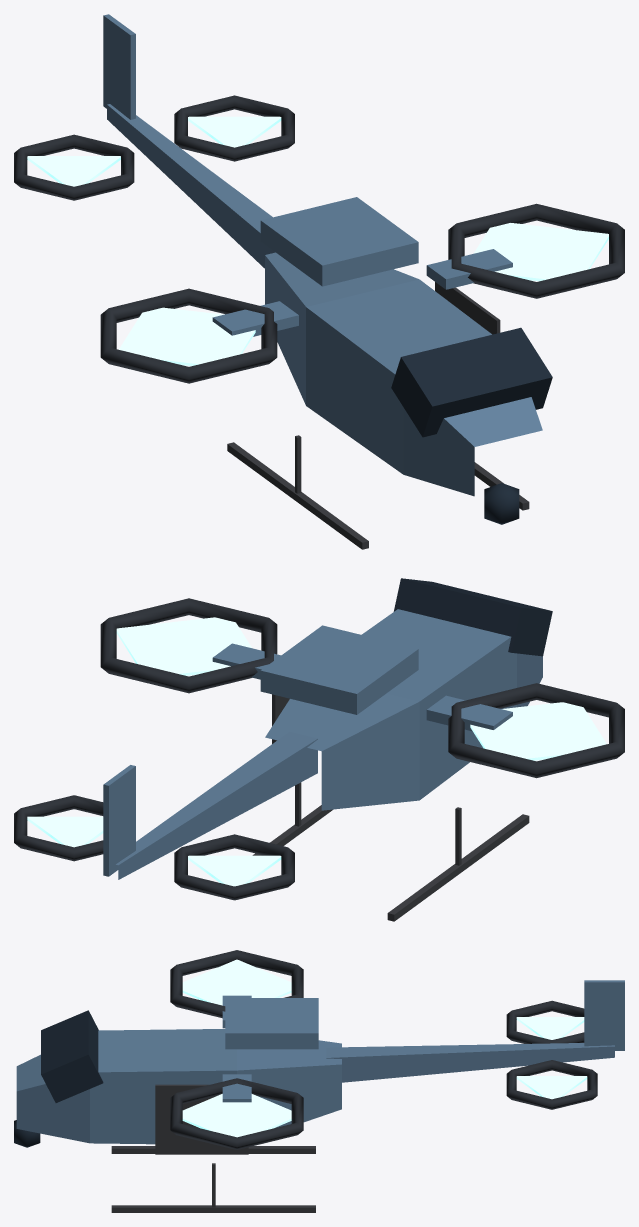
File: veh_air_heli_transport_a10_lod2.glb
The picture shows the model from 3 angles, top to bottom: view 1: azimuth 30°, elevation 25°; view 2: azimuth 150°, elevation 25°; view 3: azimuth 270°, elevation 25°; orthographic projection. The views are drawn at different scales.
Parts seen in each view (by area): view 1: body, rotor_r, rotor_l, rotor_aft_l, rotor_aft_r, door; view 2: body, rotor_l, rotor_r, rotor_aft_r, rotor_aft_l; view 3: body, rotor_l, rotor_r, rotor_aft_l, rotor_aft_r, door.
Boxes of the visible parts, x1,y1,x2,y2 form: body: [103, 14, 552, 549]; rotor_r: [100, 288, 277, 383]; rotor_l: [448, 203, 624, 298]; rotor_aft_l: [174, 95, 294, 161]; rotor_aft_r: [14, 134, 134, 200]; door: [435, 282, 500, 334]; body: [103, 578, 552, 921]; rotor_l: [100, 598, 277, 693]; rotor_r: [448, 683, 624, 778]; rotor_aft_r: [174, 834, 294, 900]; rotor_aft_l: [14, 795, 103, 861]; body: [14, 980, 624, 1212]; rotor_l: [170, 1078, 303, 1149]; rotor_r: [170, 950, 303, 1018]; rotor_aft_l: [506, 1060, 597, 1109]; rotor_aft_r: [506, 1000, 584, 1043]; door: [155, 1084, 248, 1154].
Size of the model in its own units: 7.84 by 3.8 by 10.48.
